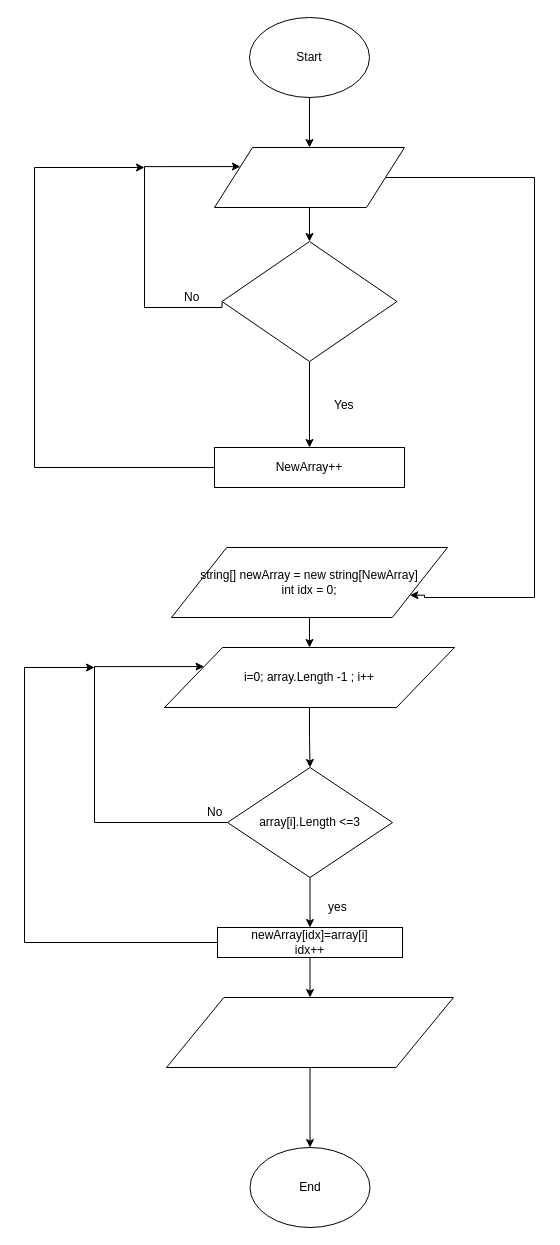
The diagram is 560 pixels wide and 1245 high, and some of its shapes have lost their labels. Each missing label, with the centre of its shape:
array[i].Length<=3: the point at 309,301
i=0; array.Length -1;i++: the point at 309,177
PrintArray(array) Console.Write(" → ") PrintArray(newArray): the point at 310,1032
